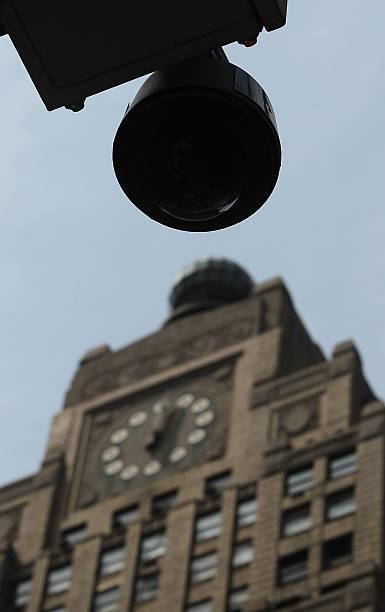camera: (88, 58, 295, 263)
